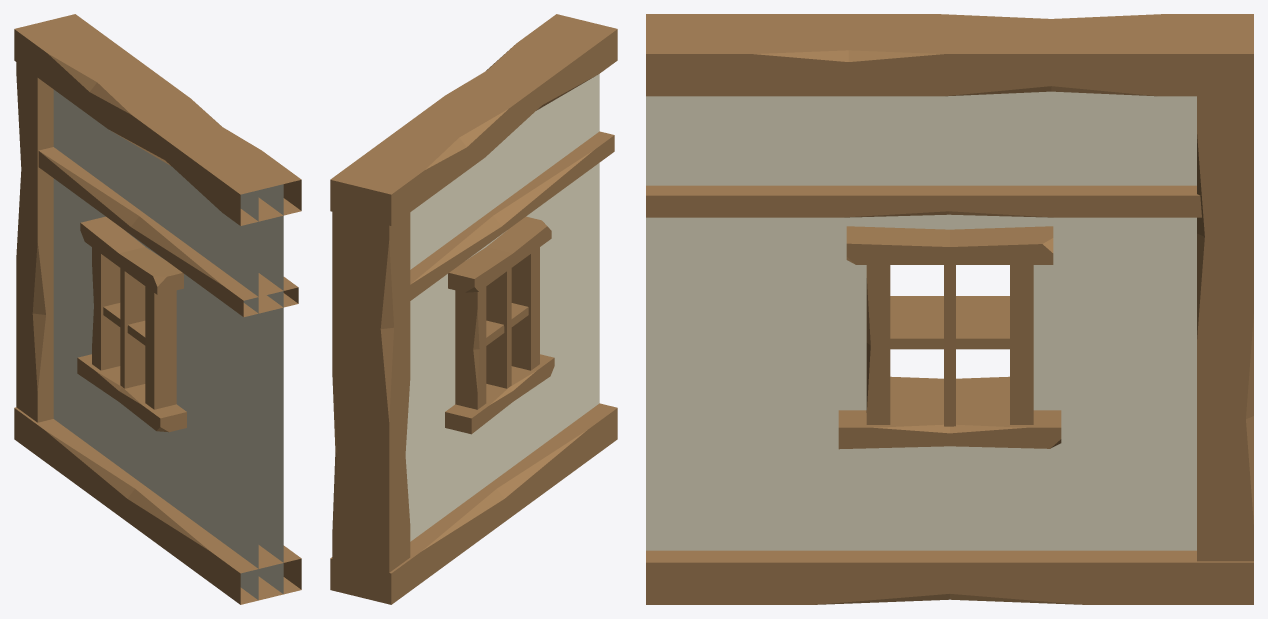
Rendered from SFV_Window3_Wooden_M_002.fbx.
3 renders of one model, left to right at view 1: azimuth 30°, elevation 25°; view 2: azimuth 150°, elevation 25°; view 3: azimuth 270°, elevation 25°, orthographic. The views are drawn at different scales.
Parts seen in each view (by area): view 1: SFV_Window3_Wooden_M_002; view 2: SFV_Window3_Wooden_M_002; view 3: SFV_Window3_Wooden_M_002.
Part boxes in pixels (x1,y1,x2,y2): SFV_Window3_Wooden_M_002: (14, 14, 301, 604); SFV_Window3_Wooden_M_002: (330, 14, 617, 604); SFV_Window3_Wooden_M_002: (646, 14, 1253, 604).
Bounding box in the file's own units: 59.78 × 300 × 300.
